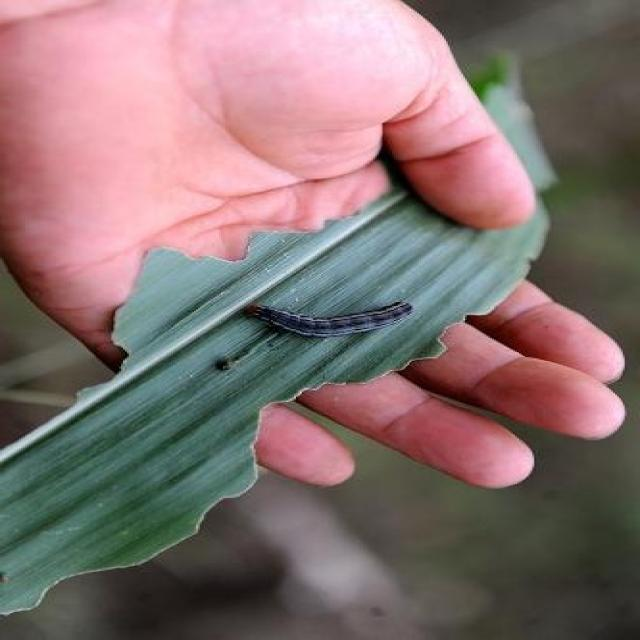army worm: (233, 295, 419, 342)
